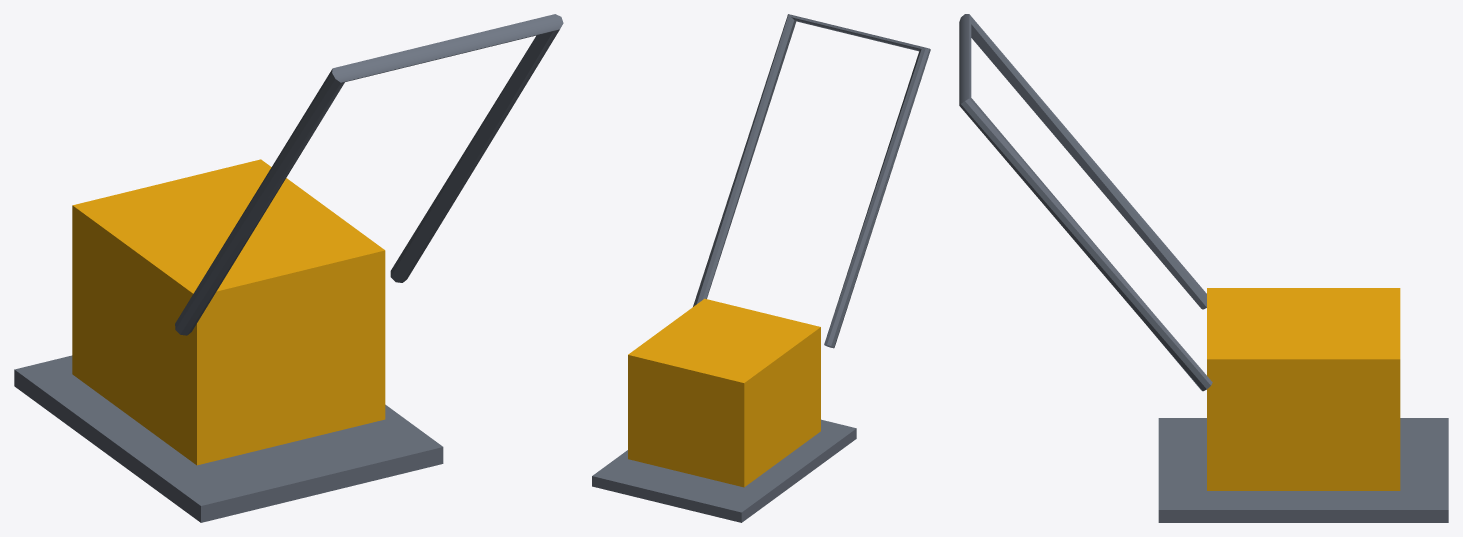
The model's file is plant.small.plate_compactor.glb.
3 renders of one model, left to right at view 1: azimuth 30°, elevation 25°; view 2: azimuth 150°, elevation 25°; view 3: azimuth 270°, elevation 25°, orthographic. The views are drawn at different scales.
Visible parts, largest first — view 1: main__plant_yellow, main__steel_painted; view 2: main__plant_yellow, main__steel_painted; view 3: main__plant_yellow, main__steel_painted.
Part boxes in pixels (<box>): main__plant_yellow: <box>72,159,385,465</box>; main__steel_painted: <box>14,14,563,522</box>; main__plant_yellow: <box>628,298,820,487</box>; main__steel_painted: <box>592,14,930,522</box>; main__plant_yellow: <box>1207,288,1400,490</box>; main__steel_painted: <box>959,14,1448,522</box>.
Bounding box in the file's own units: 0.45 × 0.9605 × 1.01.
